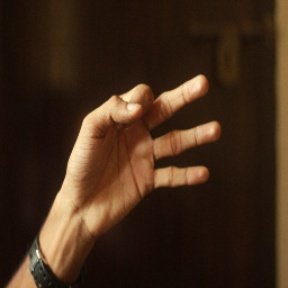K: (62, 73, 227, 214)
